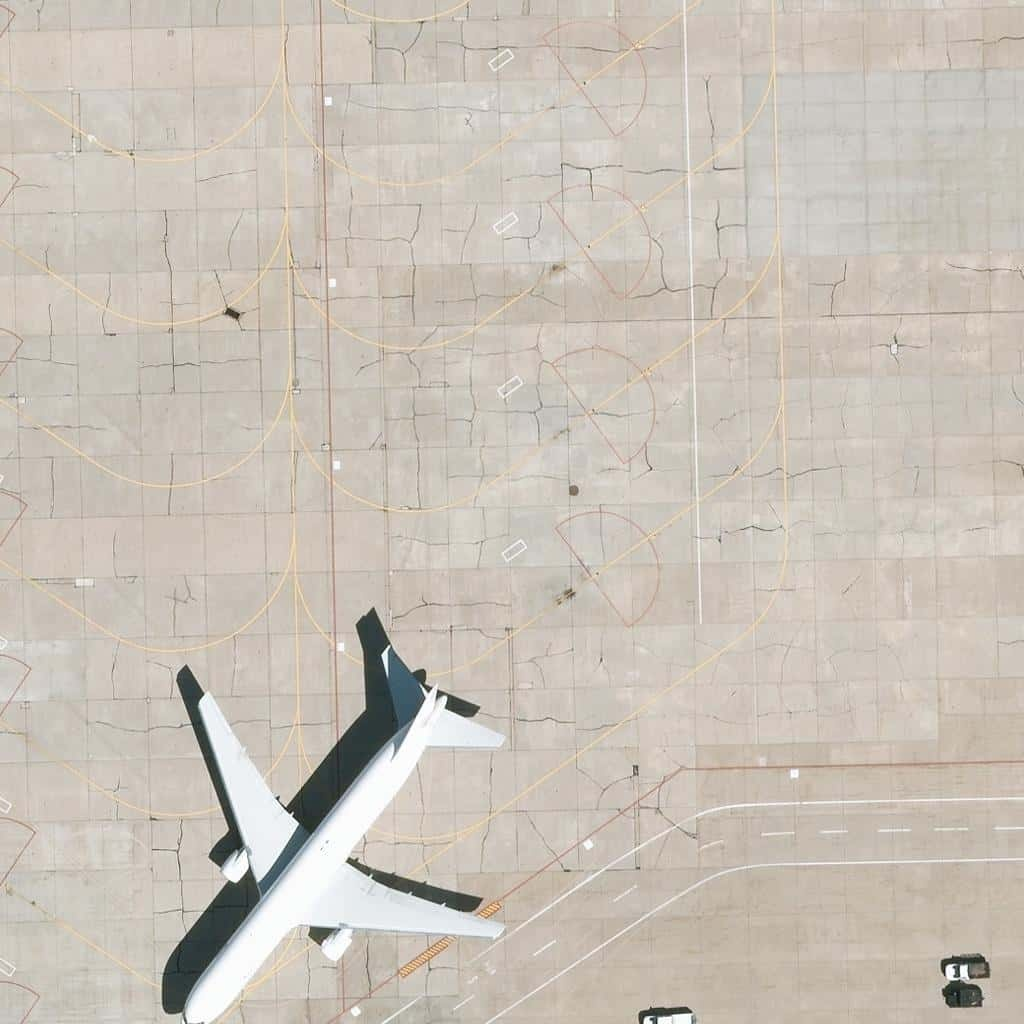plane: (157, 647, 504, 1023)
